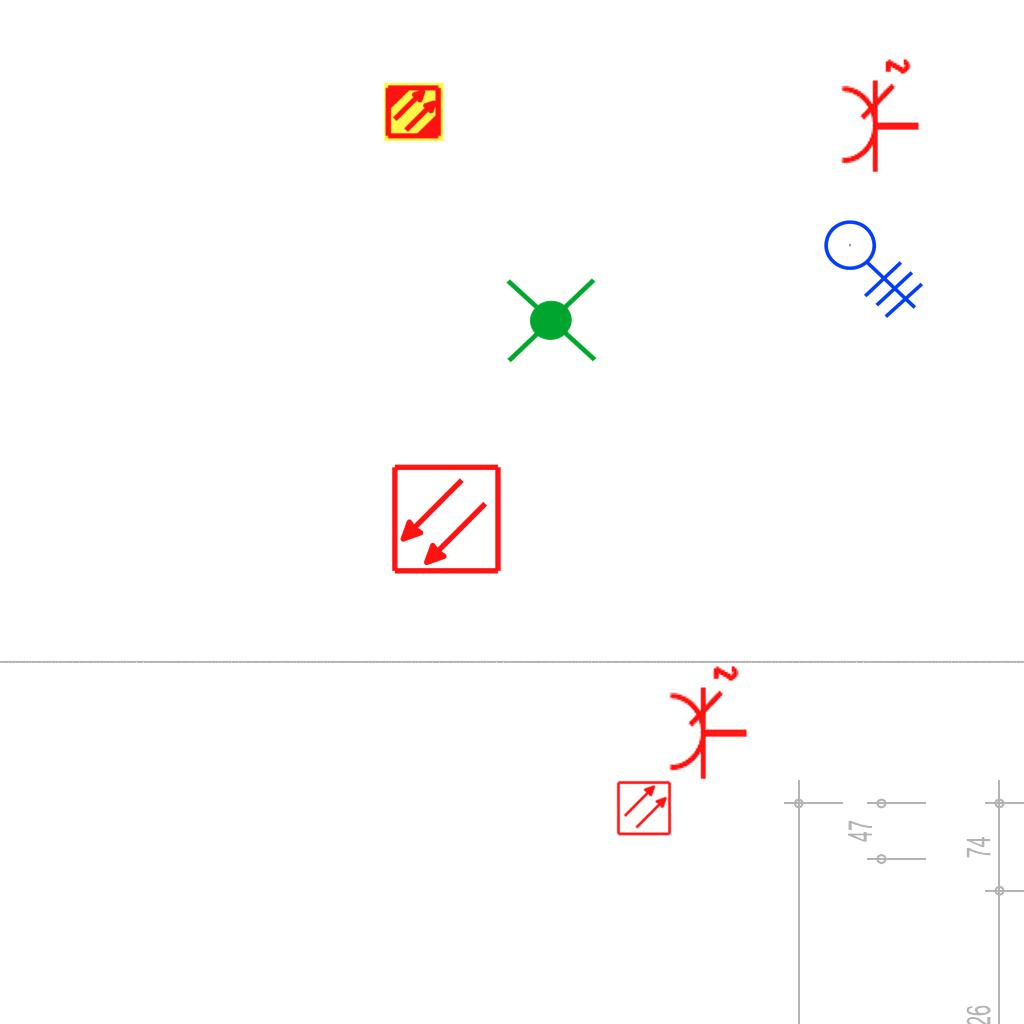ASR_Ansaugrauchmelder: (383, 81, 445, 143)
Elektroanschluss_allgemein_400V_Geraeteanschlussdose_400V: (823, 203, 936, 319)
Notlichtbaustein_in_Allgemeinbeleuchtug_engebaut_Einbau_(1UG_und_2UG_Aufbauvaria: (501, 270, 601, 373)
RMO_Rauchmelder_optischer: (390, 463, 503, 576), (616, 780, 672, 836)
Schukosteckdose_mehrfach: (665, 663, 753, 784), (837, 56, 925, 177)
